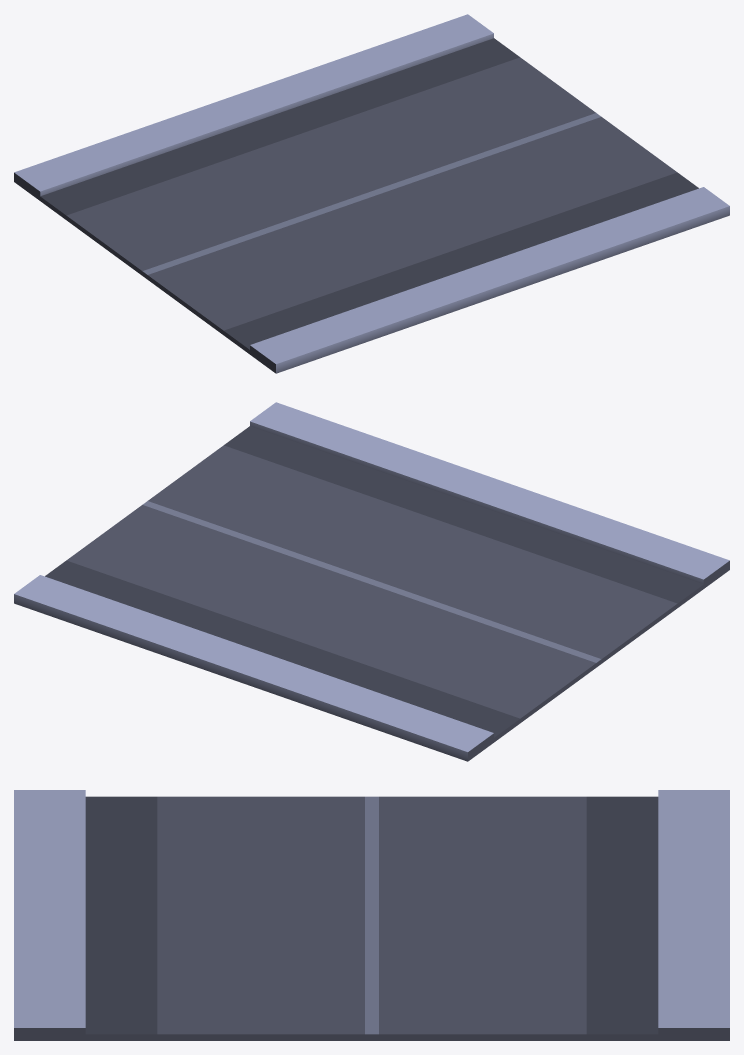
File: road-ramp.glb
The picture shows the model from 3 angles, top to bottom: view 1: azimuth 30°, elevation 25°; view 2: azimuth 150°, elevation 25°; view 3: azimuth 270°, elevation 25°; orthographic projection. The views are drawn at different scales.
Visible parts, largest first — view 1: road-straight; view 2: road-straight; view 3: road-straight.
Boxes of the visible parts, x1=… form: road-straight: x1=14, y1=14, x2=729, y2=373; road-straight: x1=14, y1=402, x2=729, y2=761; road-straight: x1=14, y1=790, x2=729, y2=1040.
Size of the model in its own units: 1 by 0.12 by 1.
